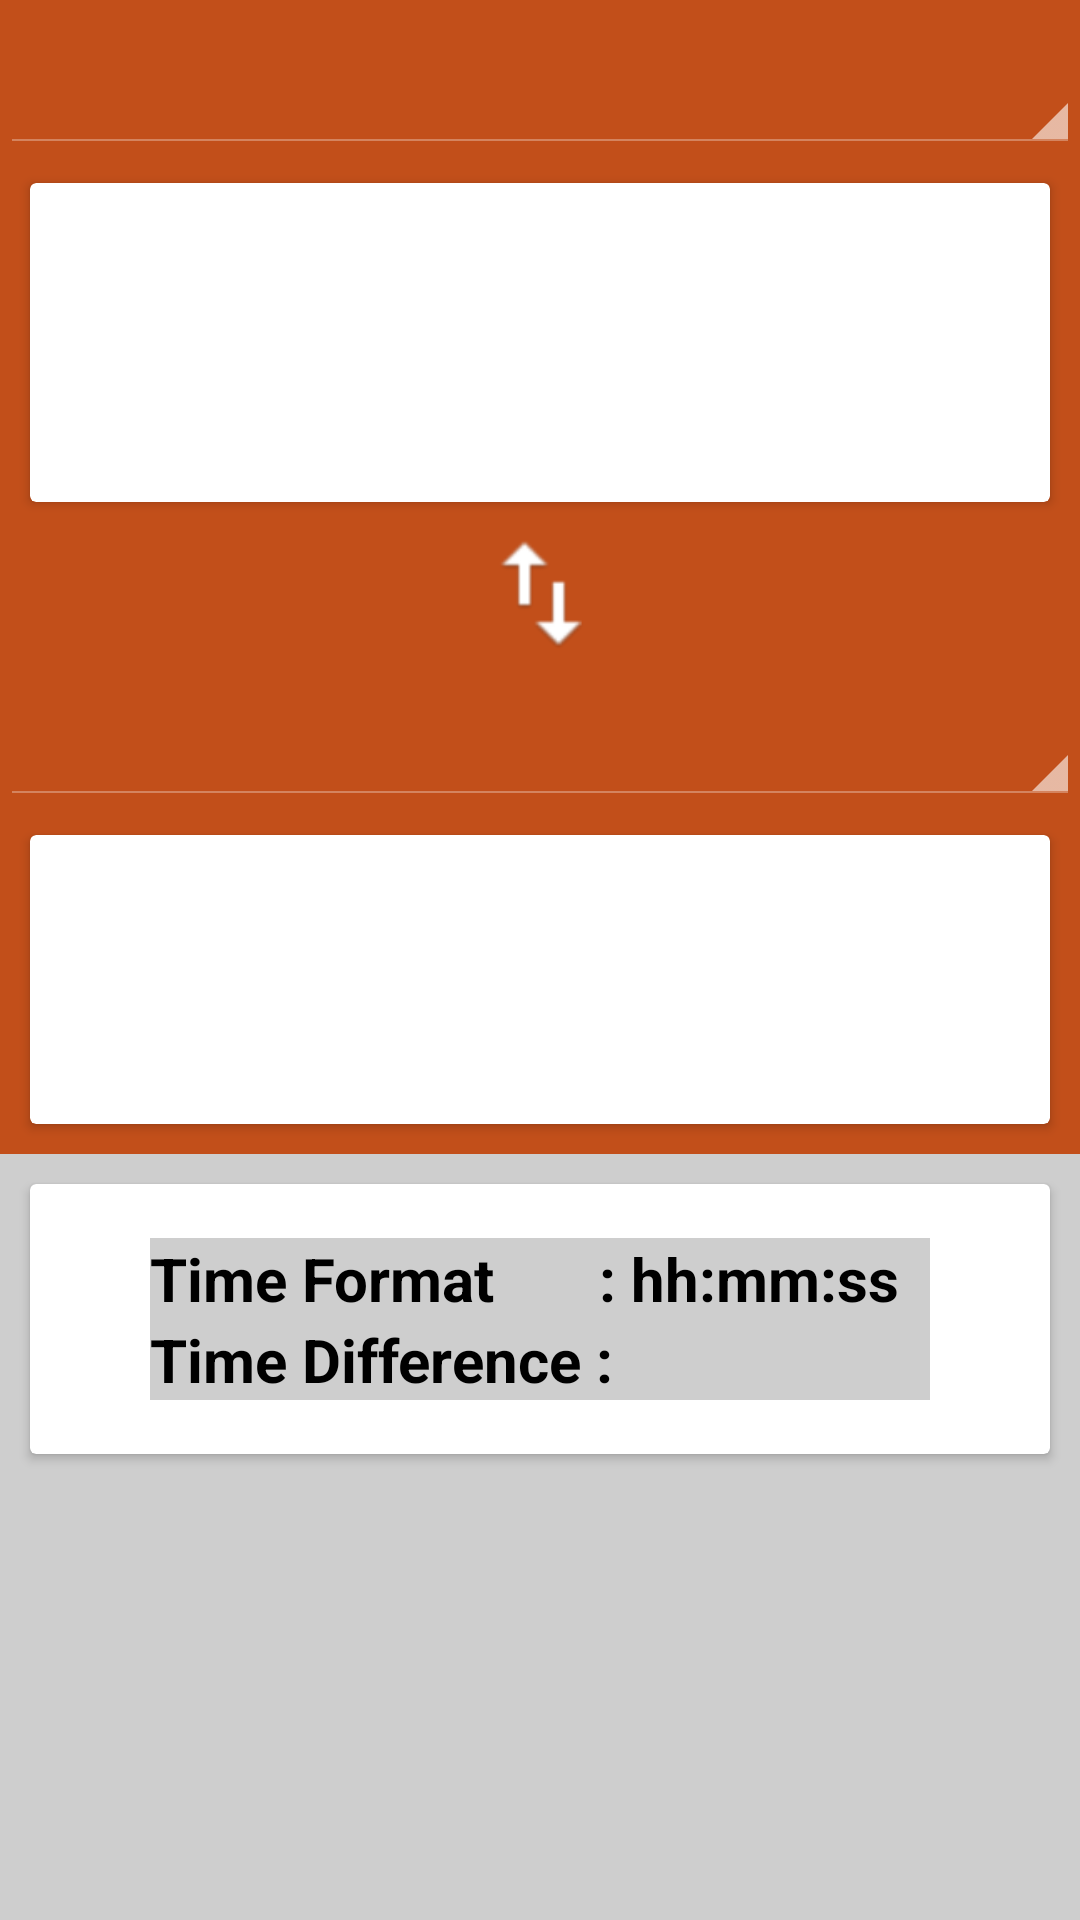

Icons on this 1080 x 1920 Android screen, each with the point to tap as (x=x, y=y):
convert: (x=542, y=593)
